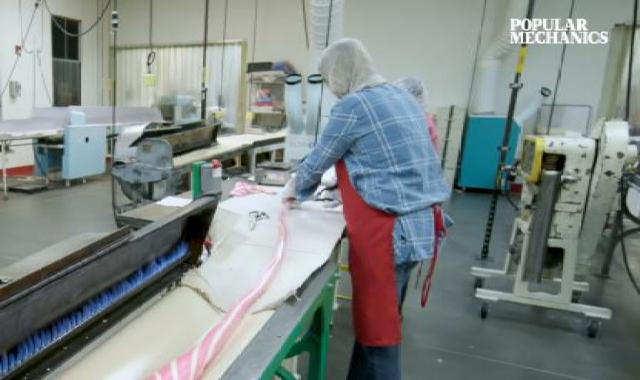hairnet: (303, 40, 381, 89)
